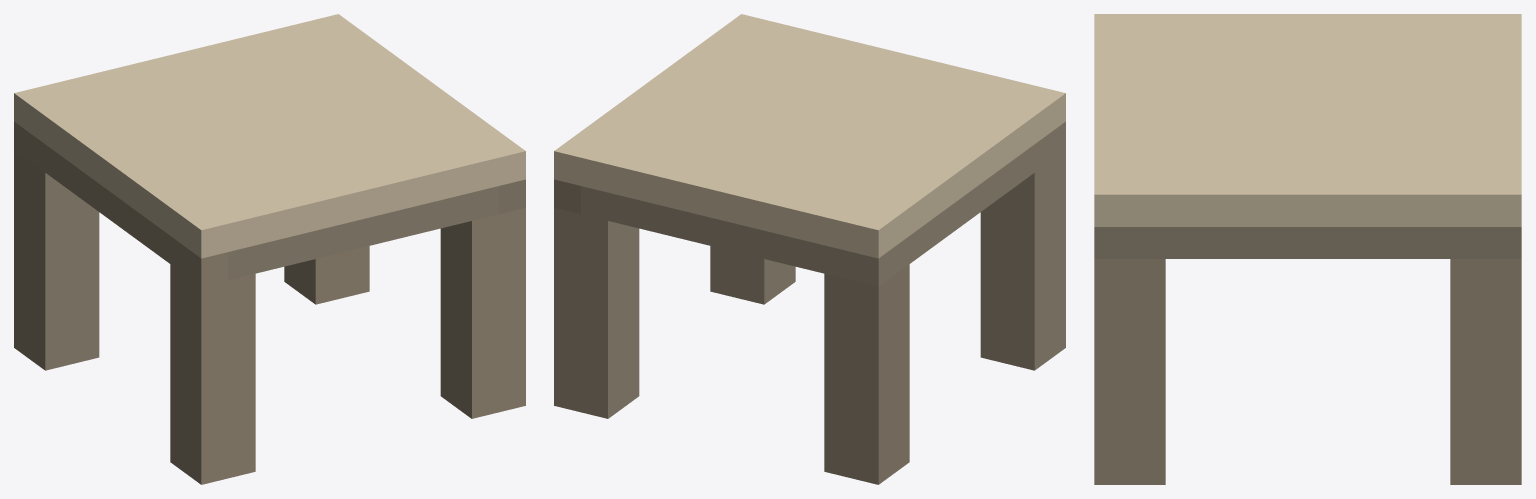
File: mesa_formado_desgastada_01.glb
3 renders of one model, left to right at view 1: azimuth 30°, elevation 25°; view 2: azimuth 150°, elevation 25°; view 3: azimuth 270°, elevation 25°, orthographic. The views are drawn at different scales.
Visible parts, largest first — view 1: mesa_formado_desgastada; view 2: mesa_formado_desgastada; view 3: mesa_formado_desgastada.
Boxes of the visible parts, box(x1,y1,x2,y2) form: mesa_formado_desgastada: box(14, 14, 525, 484); mesa_formado_desgastada: box(554, 14, 1065, 484); mesa_formado_desgastada: box(1094, 14, 1521, 484).
Size of the model in its own units: 1 by 0.75 by 1.
